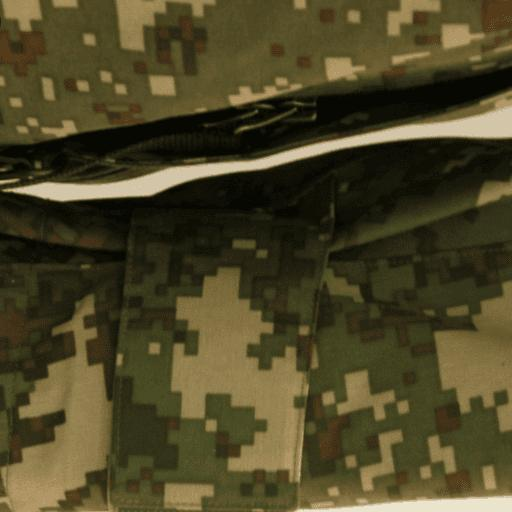korea army: (2, 1, 512, 512)
